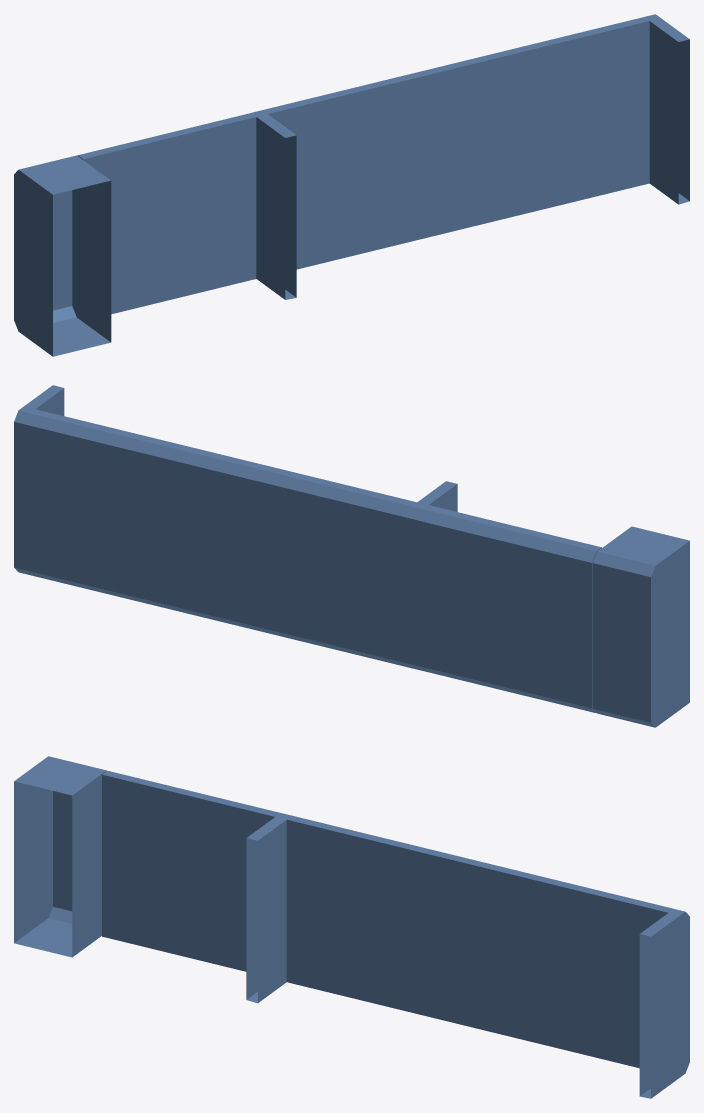
File: Desk 03.FBX
The picture shows the model from 3 angles, top to bottom: view 1: azimuth 30°, elevation 25°; view 2: azimuth 150°, elevation 25°; view 3: azimuth 330°, elevation 25°; orthographic projection.
Visible parts, largest first — view 1: Desk 03, Desk 03 Door; view 2: Desk 03, Desk 03 Door; view 3: Desk 03, Desk 03 Door.
Boxes of the visible parts, x1,y1,x2,y2 form: Desk 03: (14,14,689,356); Desk 03 Door: (77,113,256,314); Desk 03: (14,385,689,727); Desk 03 Door: (417,505,601,713); Desk 03: (14,756,689,1098); Desk 03 Door: (102,770,281,971).
Bounding box in the file's own units: 500 × 122 × 52.89.
Materials: 1 (1 with a texture image).
